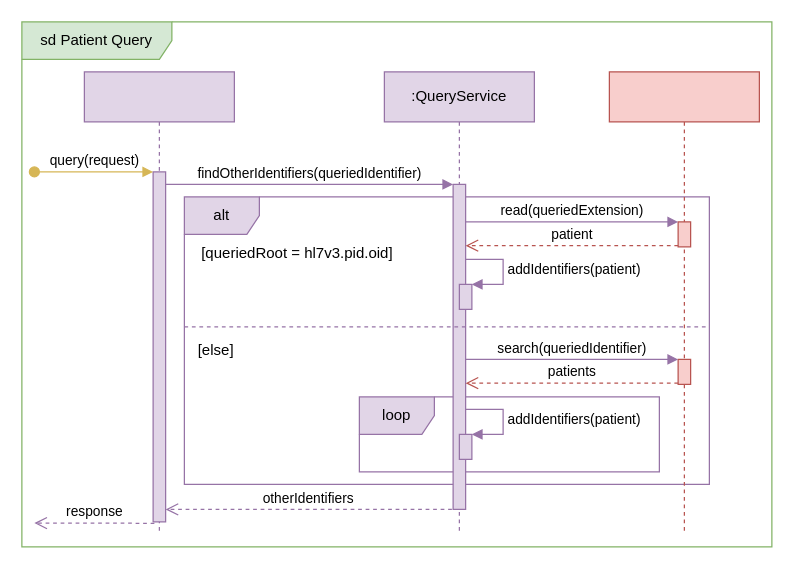
This 794x569 diagram has some shape labels left out. Here are the shapes that lost their labels. From the top down, the box of each, then its label:
(83, 71, 234, 534): :PixQueryEndpoint
(608, 71, 759, 534): :Patient Index
